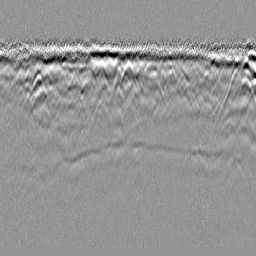cavity: (114, 61, 141, 103)
